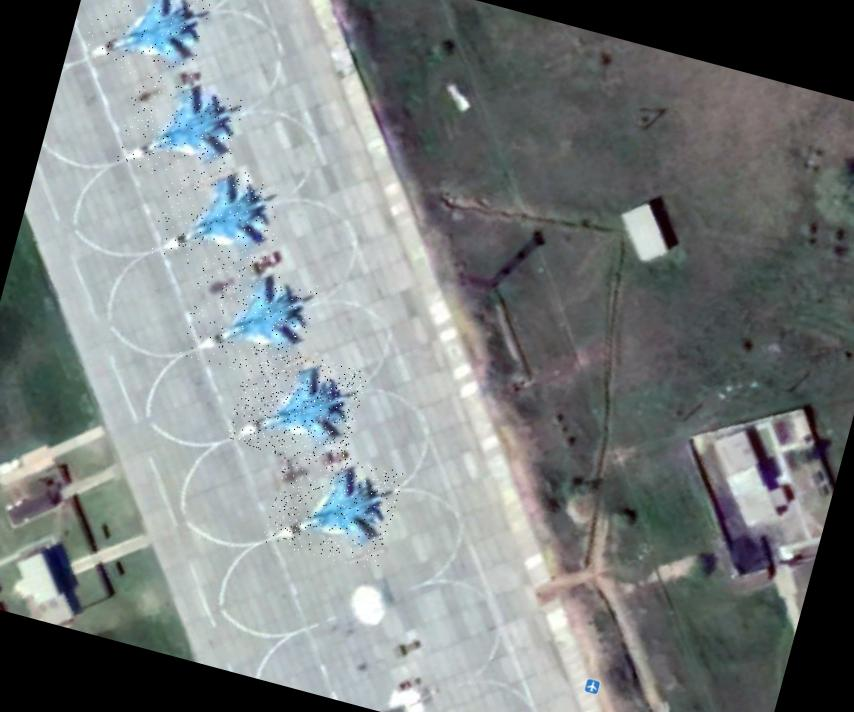A19: (149, 154, 292, 285), (176, 254, 319, 385), (225, 341, 368, 472), (261, 442, 404, 572), (113, 72, 246, 192), (80, 0, 213, 89)
